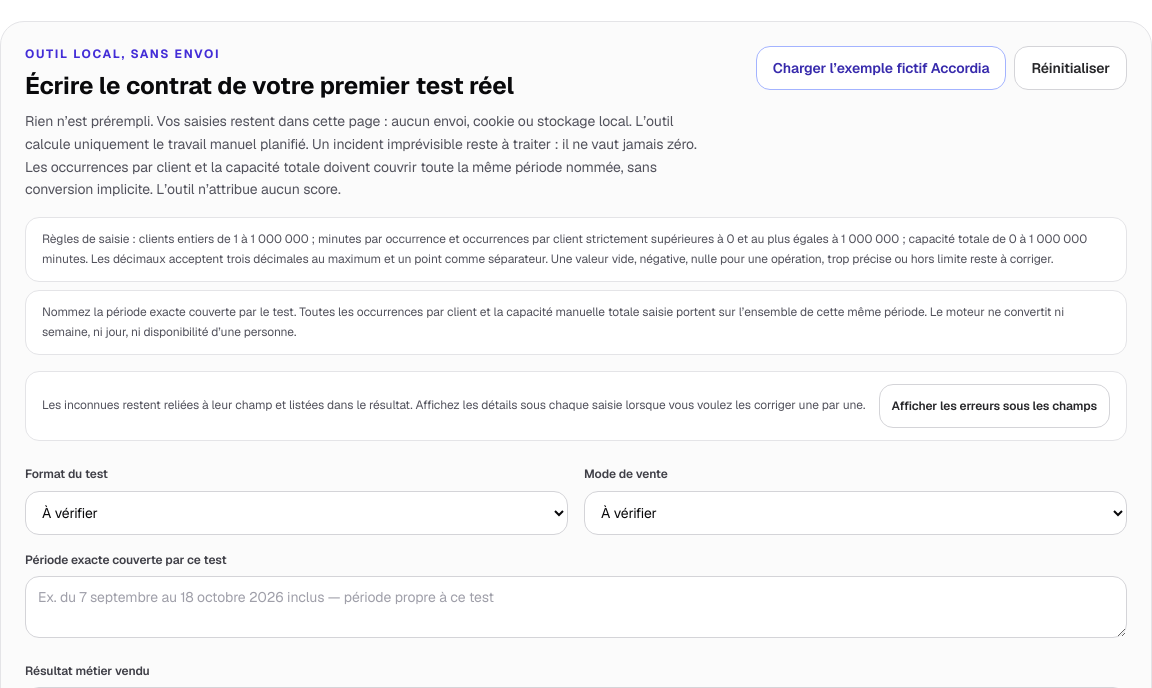
Scenario: MvpFirstClientContractTool › reveals payment states when autonomous purchase is selected
Click the button "Charger l’exemple fictif Accordia" at (881, 68), box top-left (756, 46), bottom-right (1006, 90)
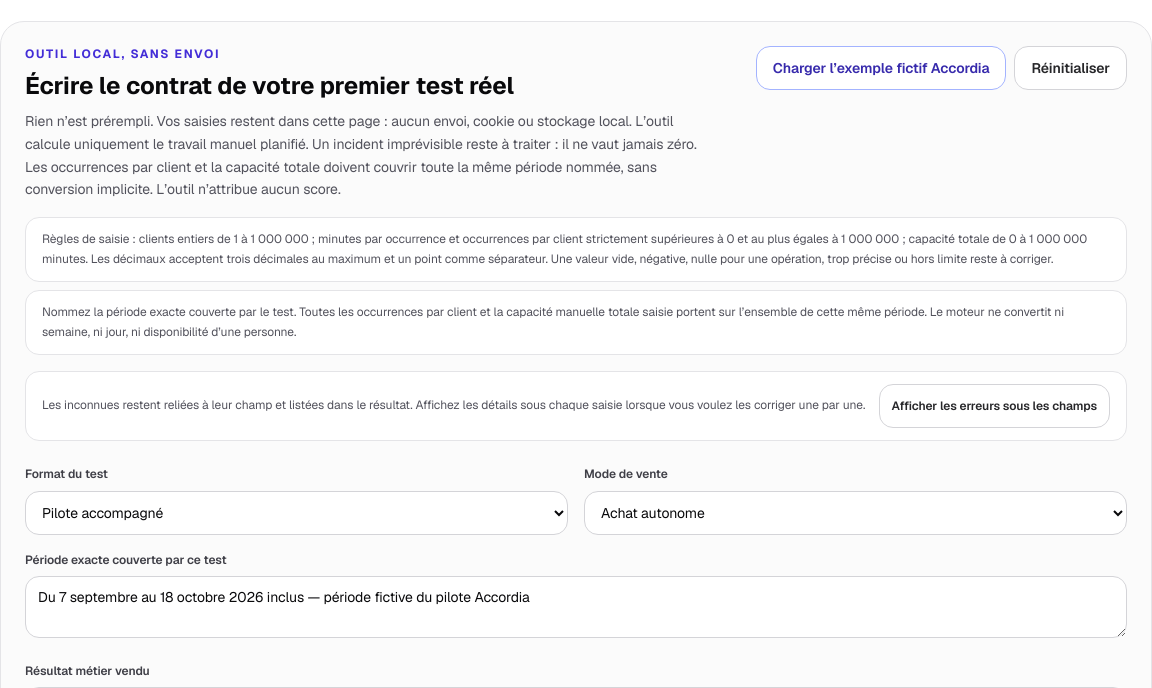
Select "Achat autonome" in the dropdown with id "mvp-sales-mode" at (856, 512), box top-left (584, 490), bottom-right (1127, 534)
(page scrolled)
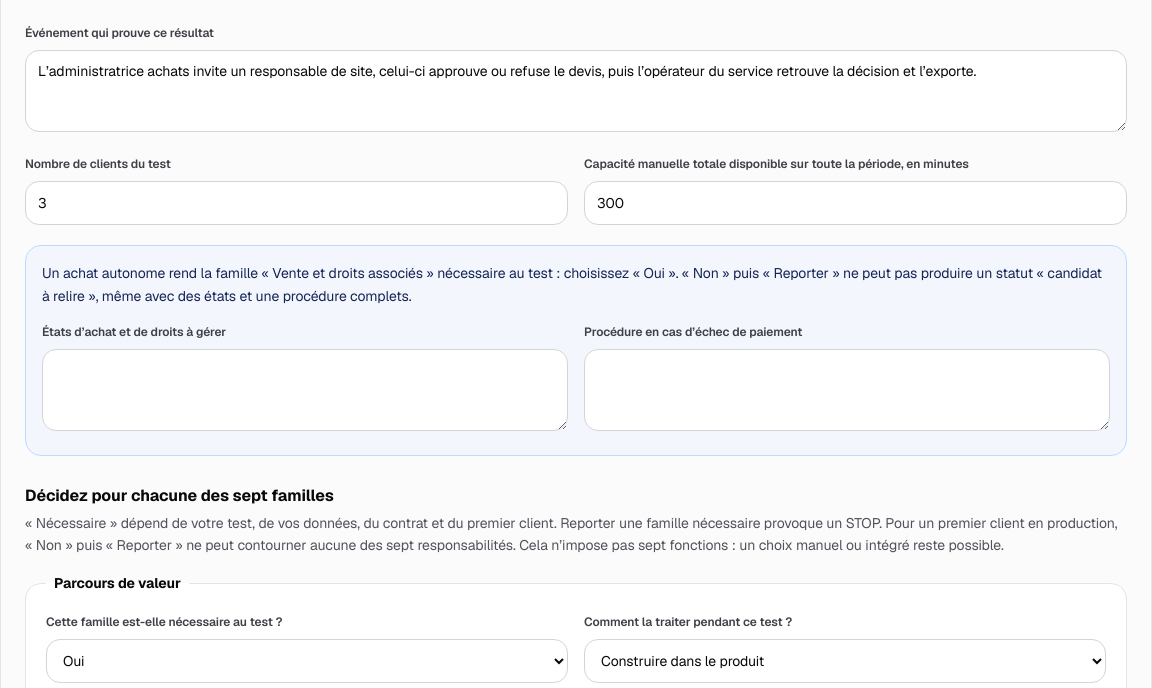
Expected: the text box with id "mvp-autonomous-states" is shown, top-left (42, 349), bottom-right (568, 431)
Expected: the text box with id "mvp-autonomous-failure" is shown, top-left (584, 349), bottom-right (1110, 431)
Expected: the text "Vente et droits associés » nécessaire au test" is shown, top-left (42, 264), bottom-right (1102, 305)
